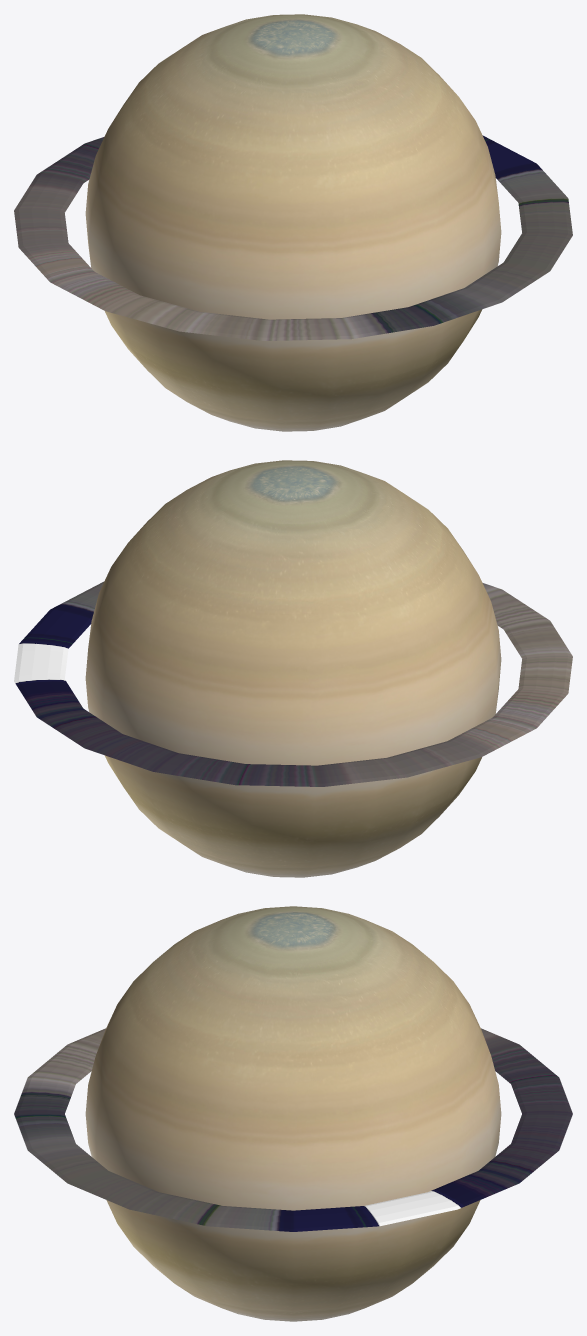
Rendered from saturn.gltf.
3 renders of one model, top to bottom at view 1: azimuth 30°, elevation 25°; view 2: azimuth 150°, elevation 25°; view 3: azimuth 270°, elevation 25°, orthographic.
Visible parts, largest first — view 1: Saturn, Saturn_Ring; view 2: Saturn, Saturn_Ring; view 3: Saturn, Saturn_Ring.
Boxes of the visible parts, box(x1,y1,x2,y2) form: Saturn: box(85, 14, 501, 431); Saturn_Ring: box(14, 135, 572, 340); Saturn: box(85, 460, 501, 877); Saturn_Ring: box(14, 581, 572, 786); Saturn: box(85, 906, 501, 1321); Saturn_Ring: box(14, 1028, 572, 1231).
Size of the model in its own units: 24.2 by 18 by 24.2.
2 materials, 2 textured.
